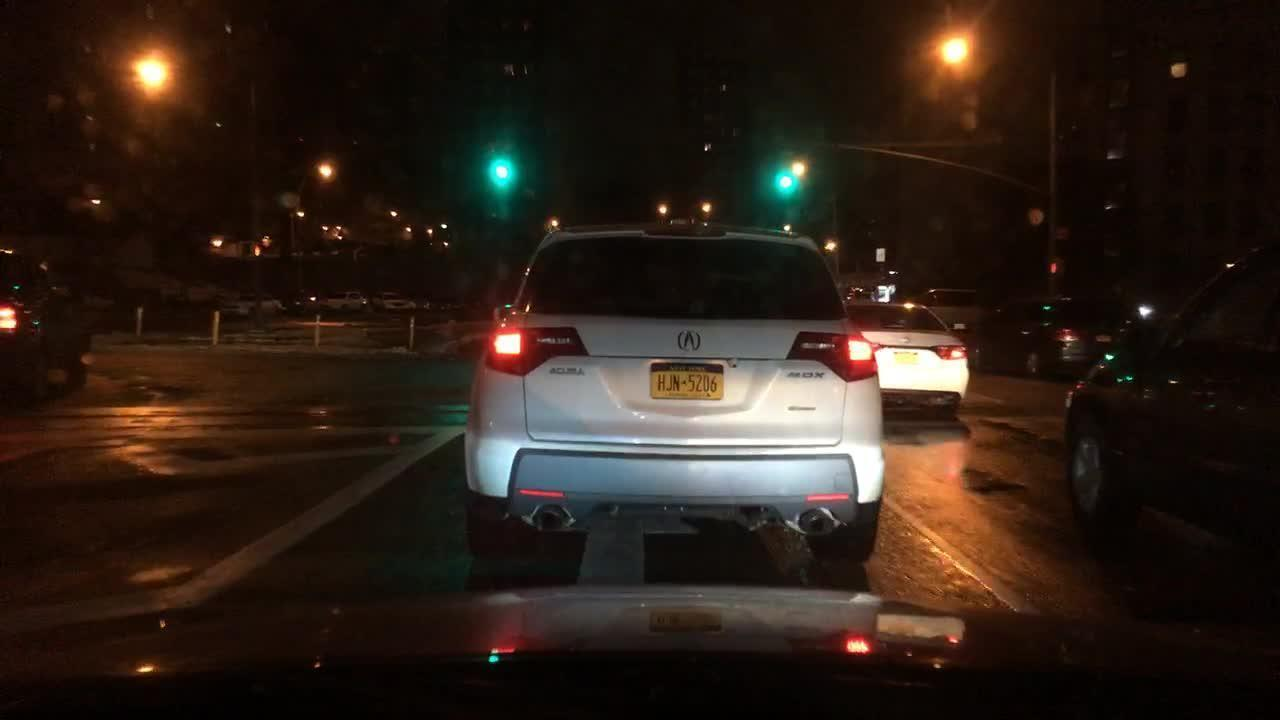acura: (676, 324, 701, 356)
